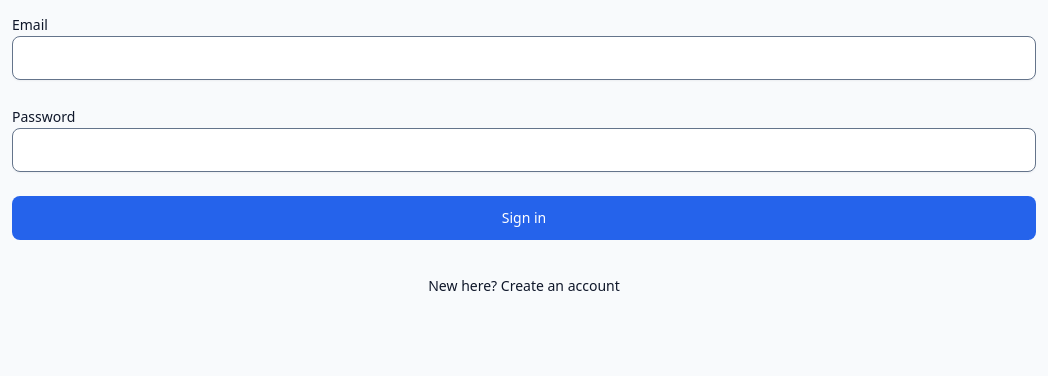
Test: labels inputs, supports password managers, and submits sign-in
This screenshot has width=1048, height=376.
Type "test@example.invalid" into the field labelled "Email" at [524, 58], box [12,36,1036,80]
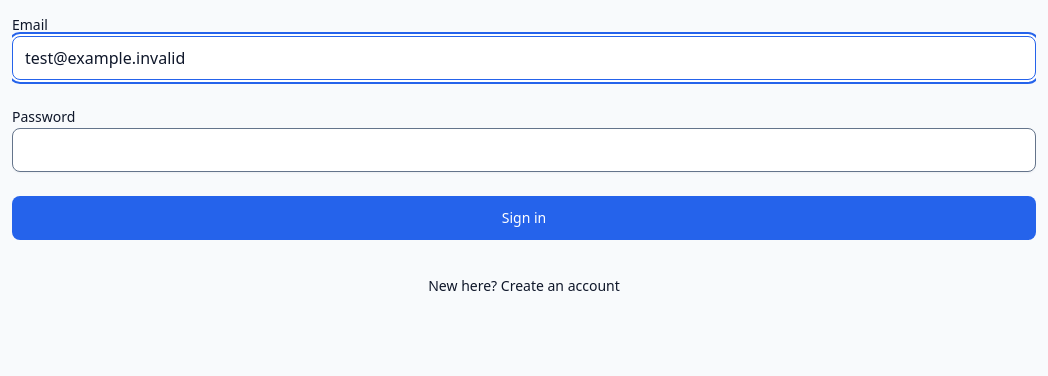
Type "synthetic-test-password" into the password field labelled "Password" at [524, 150], box [12,128,1036,172]
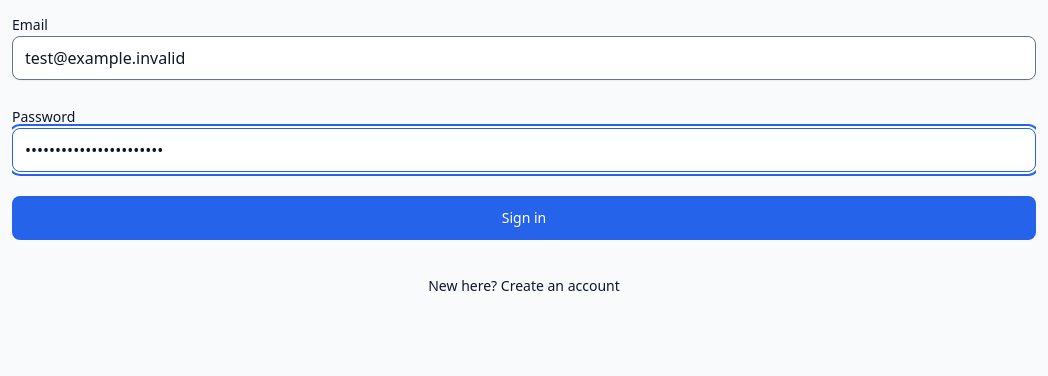
Click the button "Sign in" at [524, 218], box [12,196,1036,240]
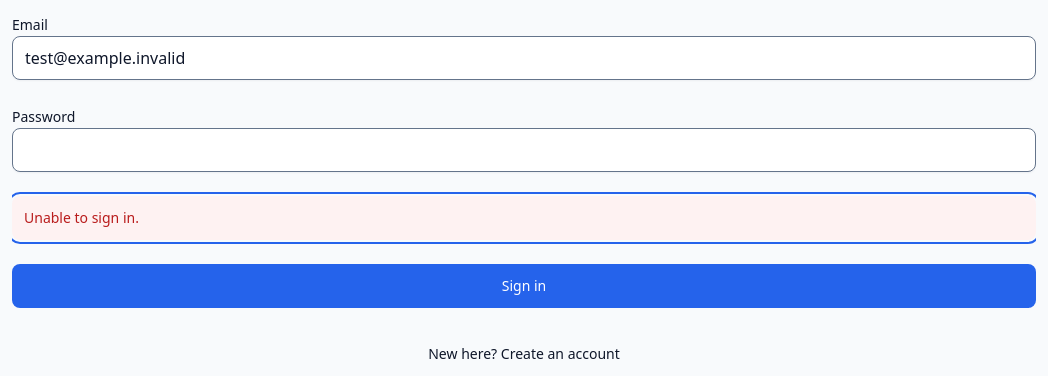
expect the message reads "Unable to sign in.": met, box [24,208,139,227]
